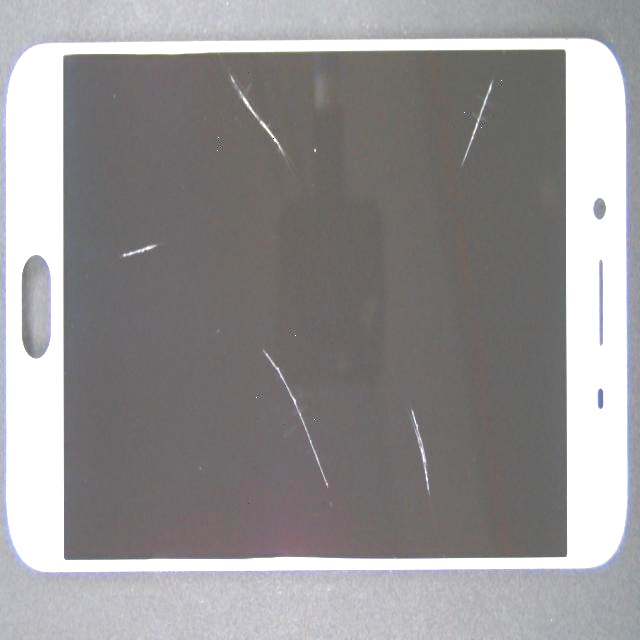scratch: (180, 164, 605, 640), (142, 156, 389, 503), (265, 0, 640, 149), (55, 139, 167, 417), (183, 104, 411, 161)
